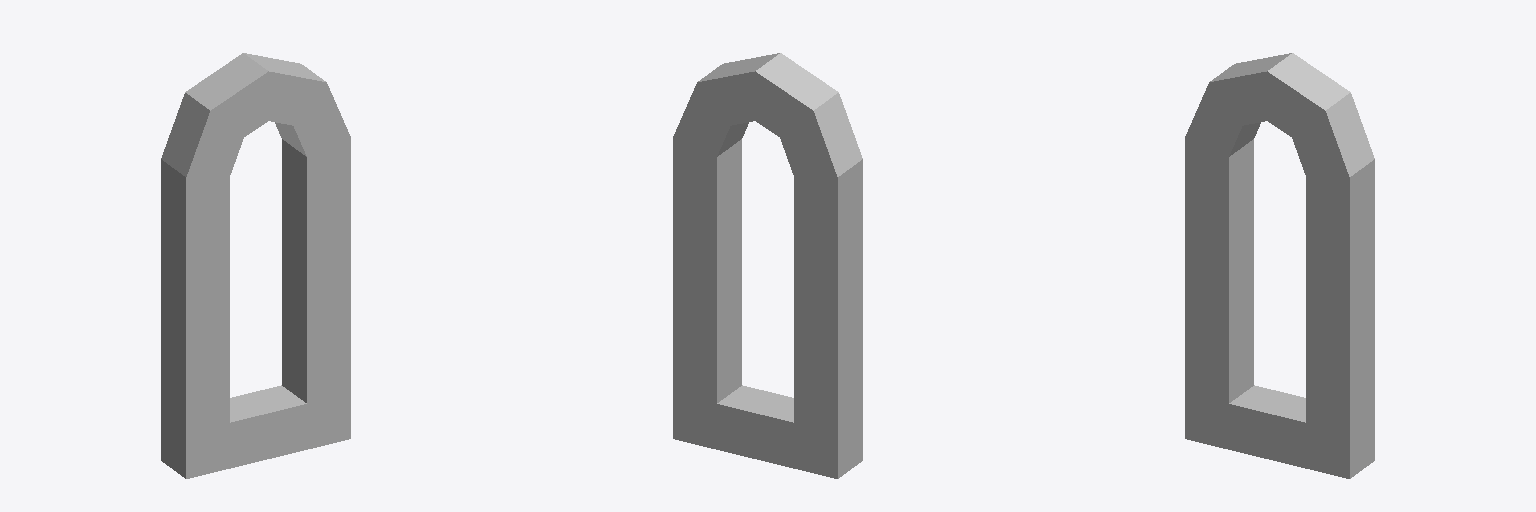
Rendered from window-white-round-narrow.obj.
3 renders of one model, left to right at view 1: azimuth 30°, elevation 25°; view 2: azimuth 150°, elevation 25°; view 3: azimuth 330°, elevation 25°, orthographic.
Parts seen in each view (by area): view 1: window-white-round-narrow; view 2: window-white-round-narrow; view 3: window-white-round-narrow.
Part boxes in pixels (bbox=[...]): window-white-round-narrow: bbox=[161, 53, 350, 478]; window-white-round-narrow: bbox=[673, 53, 862, 478]; window-white-round-narrow: bbox=[1185, 53, 1374, 478].
Size of the model in its own units: 0.1875 by 0.4219 by 0.05.